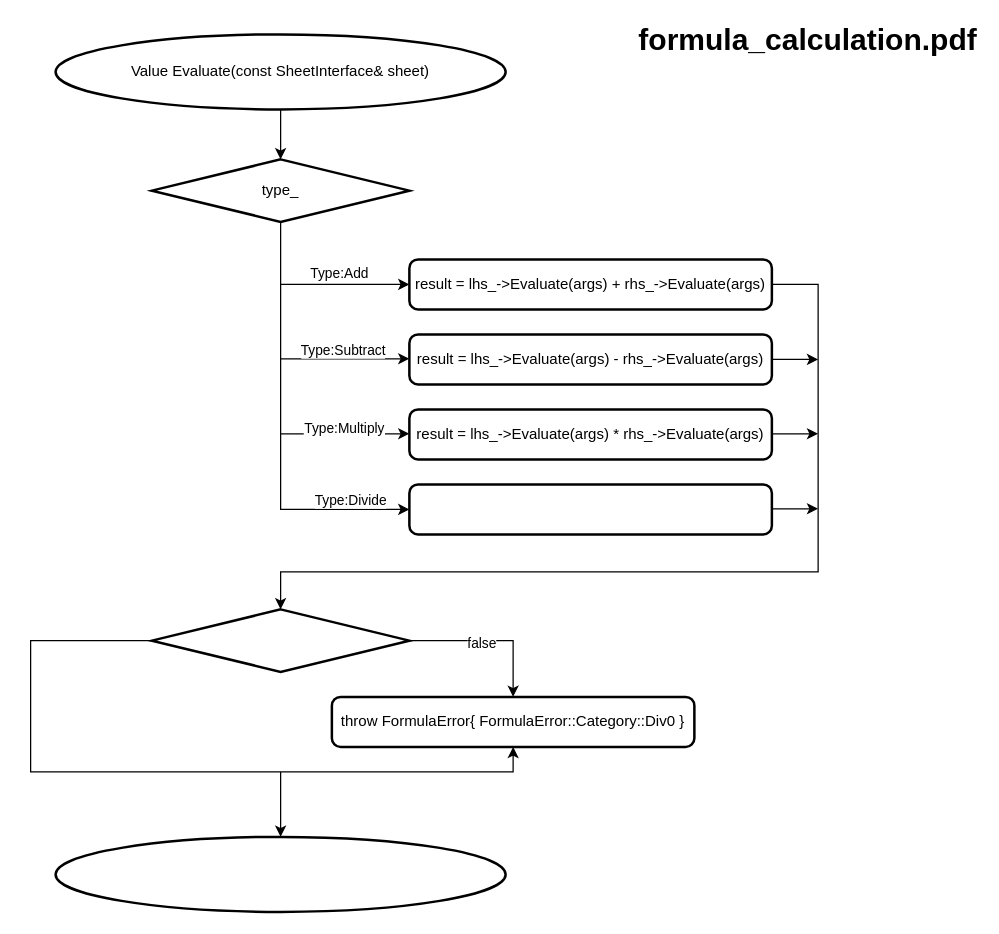
The diagram is 999 pixels wide and 934 high, and some of its shapes have lost their labels. Here are the shapes that lost their labels. From the top down, the centre of each, then its label:
[590,508]: result = lhs_->Evaluate(args) / rhs_->Evaluate(args)
[280,640]: std::isfinite(result)
[280,873]: End
